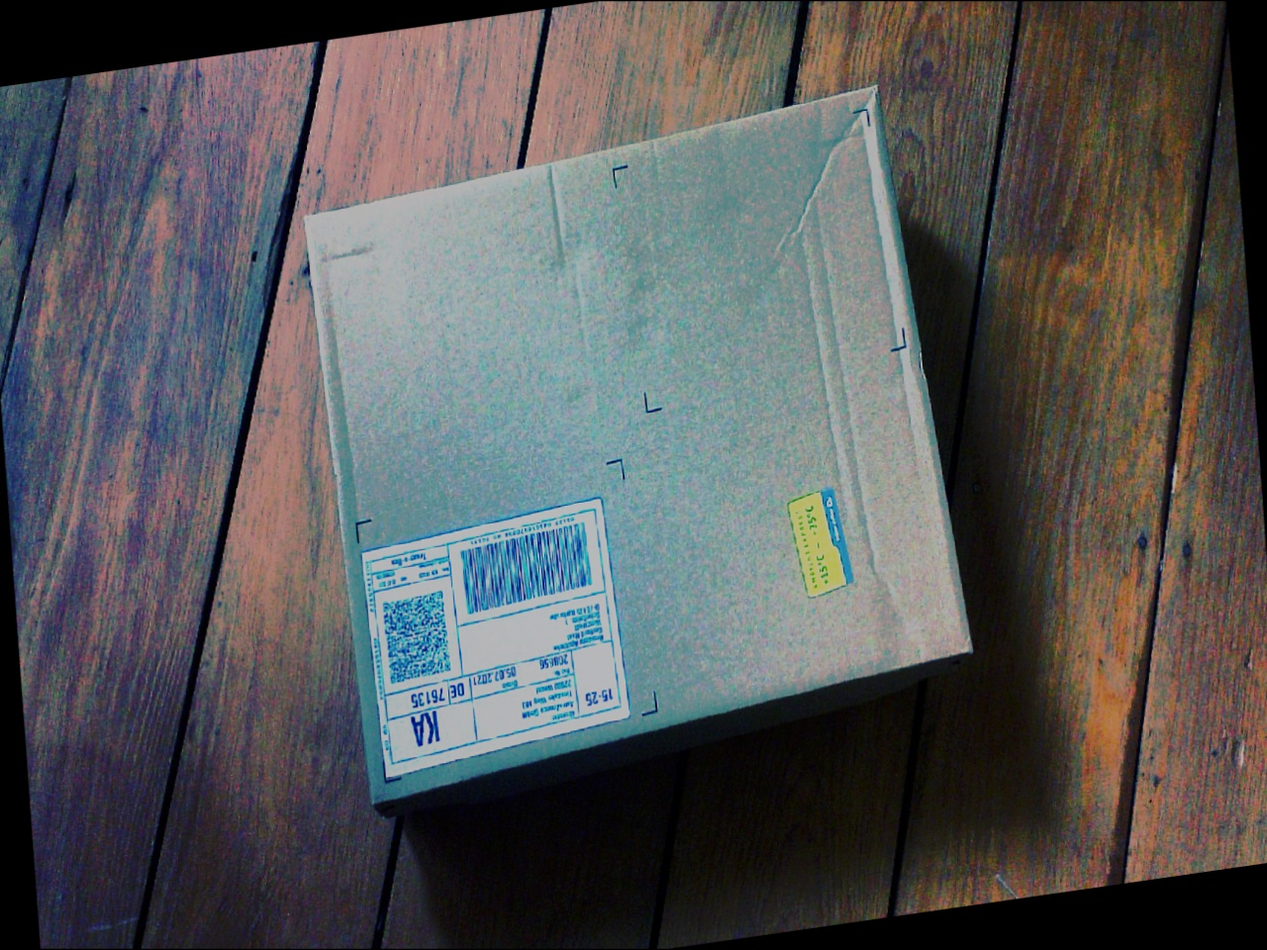good-parcel: (268, 80, 1000, 819)
